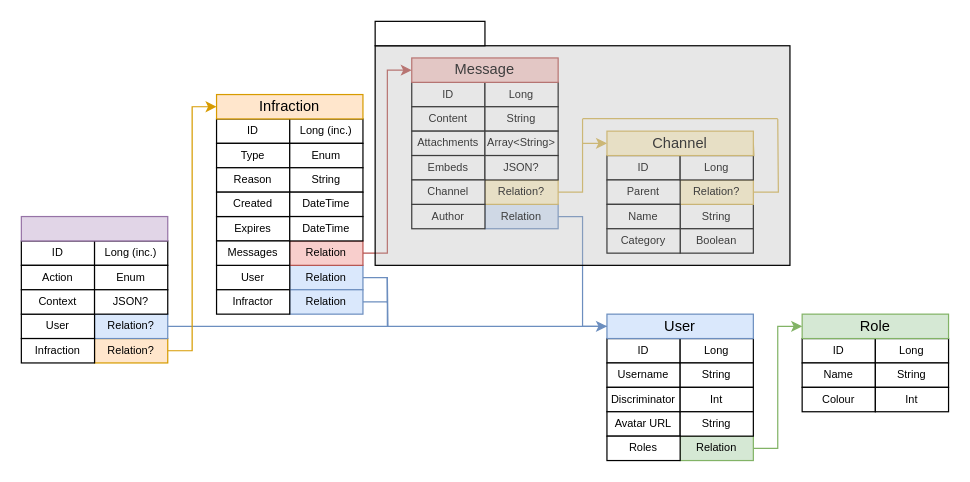
The diagram is 970 pixels wide and 482 high, and some of its shapes have lost their labels. Here are the shapes that lost their labels. From the top down, the box of each, then its label:
(374, 20, 485, 46): This comes later
(20, 215, 168, 241): Audit Log
